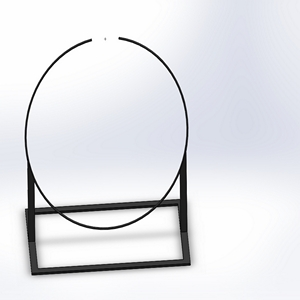circle: (22, 32, 191, 275)
